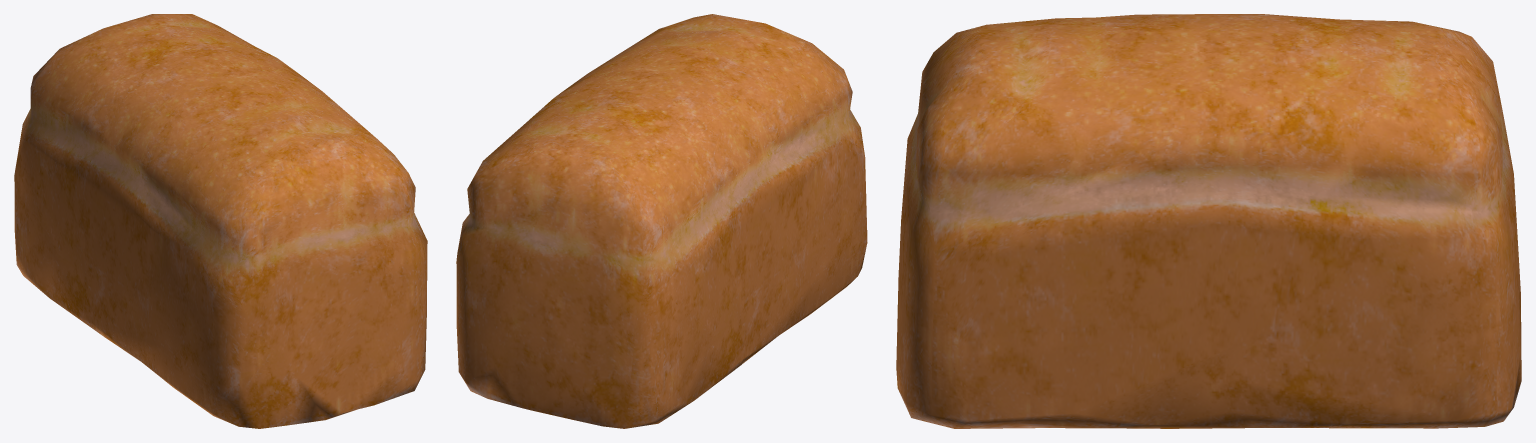
Rendered from Bread_4.obj.
The picture shows the model from 3 angles, left to right: view 1: azimuth 30°, elevation 25°; view 2: azimuth 150°, elevation 25°; view 3: azimuth 270°, elevation 25°; orthographic projection. The views are drawn at different scales.
Parts seen in each view (by area): view 1: bread2_a_mesh; view 2: bread2_a_mesh; view 3: bread2_a_mesh.
Boxes of the visible parts, x1,y1,x2,y2 form: bread2_a_mesh: [14, 14, 427, 428]; bread2_a_mesh: [456, 14, 867, 428]; bread2_a_mesh: [896, 14, 1521, 428].
Size of the model in its own units: 0.138 by 0.158 by 0.2622.
